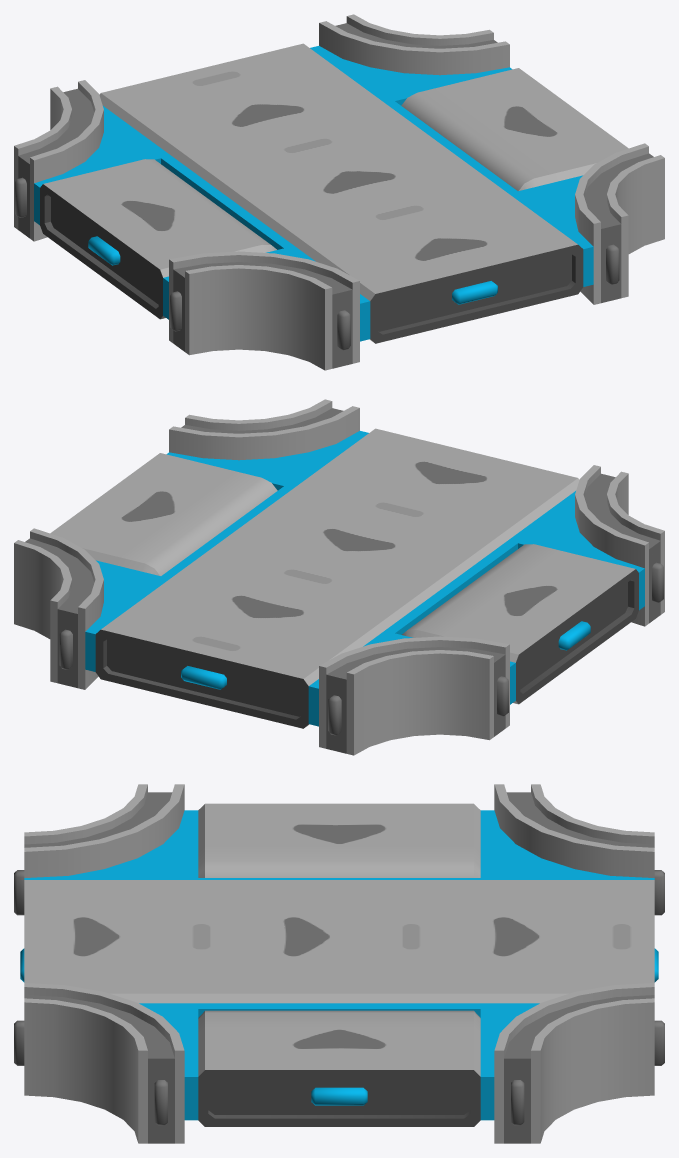
Rendered from Conveyor_Belt_2nd_1_Way_2I.fbx.
The picture shows the model from 3 angles, top to bottom: view 1: azimuth 30°, elevation 25°; view 2: azimuth 150°, elevation 25°; view 3: azimuth 270°, elevation 25°; orthographic projection. The views are drawn at different scales.
Parts seen in each view (by area): view 1: Conveyor_Belt_2nd_1_Way_2I; view 2: Conveyor_Belt_2nd_1_Way_2I; view 3: Conveyor_Belt_2nd_1_Way_2I.
Boxes of the visible parts, x1,y1,x2,y2 form: Conveyor_Belt_2nd_1_Way_2I: (14, 14, 664, 370); Conveyor_Belt_2nd_1_Way_2I: (14, 399, 664, 755); Conveyor_Belt_2nd_1_Way_2I: (14, 784, 664, 1143).
Size of the model in its own units: 207 by 32.6 by 207.
